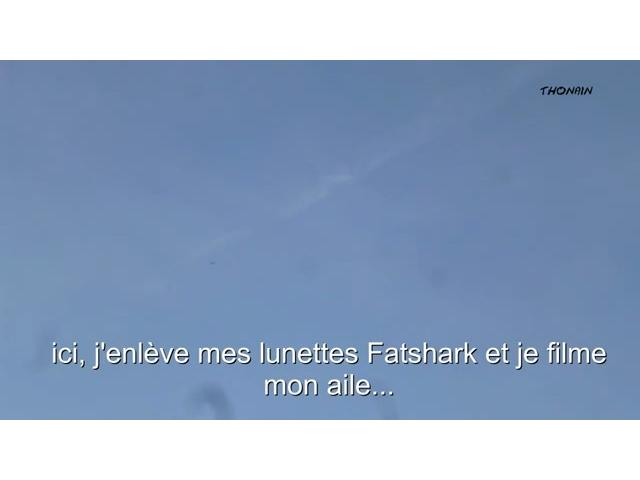Anti-Drone: (206, 258, 218, 268)
